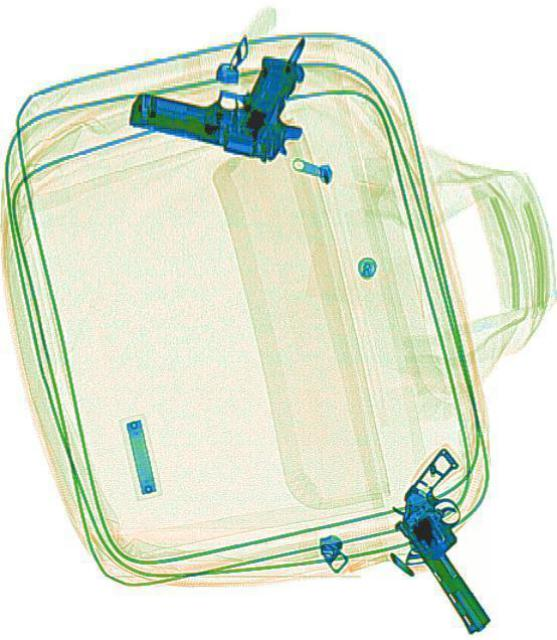Gun: (370, 442, 534, 636), (125, 20, 316, 170)
